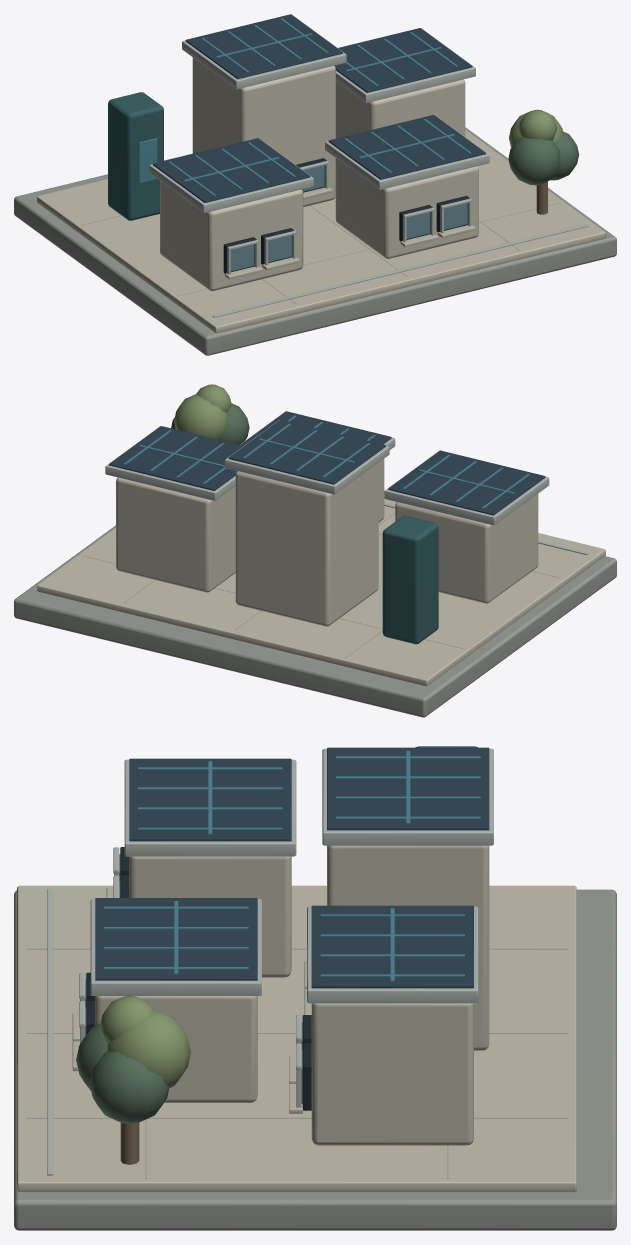
File: idea-bfbd7e8b.glb
The picture shows the model from 3 angles, top to bottom: view 1: azimuth 30°, elevation 25°; view 2: azimuth 150°, elevation 25°; view 3: azimuth 270°, elevation 25°; orthographic projection. The views are drawn at different scales.
Visible parts, largest first — view 1: Solar Rooftop Sales Engine; view 2: Solar Rooftop Sales Engine; view 3: Solar Rooftop Sales Engine.
Boxes of the visible parts, bbox=[...] form: Solar Rooftop Sales Engine: bbox=[14, 14, 616, 355]; Solar Rooftop Sales Engine: bbox=[14, 384, 616, 717]; Solar Rooftop Sales Engine: bbox=[14, 746, 616, 1230].
Bounding box in the file's own units: 4.8 × 1.94 × 3.9.
